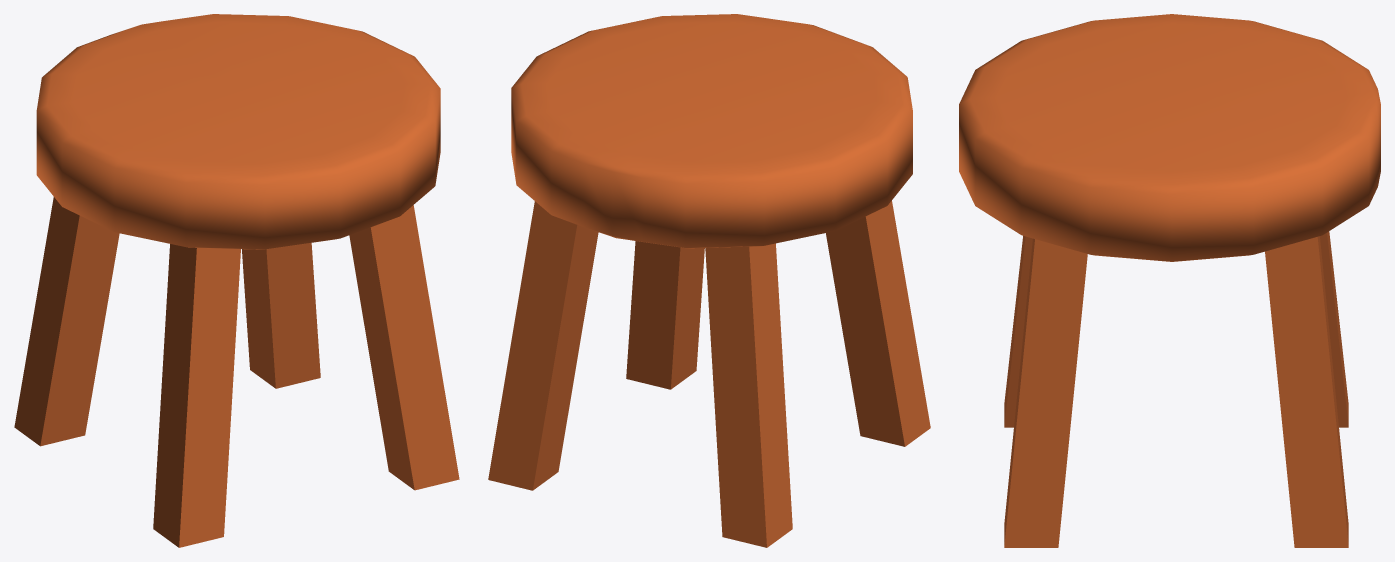
Rendered from hocker.fbx.
The picture shows the model from 3 angles, left to right: view 1: azimuth 30°, elevation 25°; view 2: azimuth 150°, elevation 25°; view 3: azimuth 270°, elevation 25°; orthographic projection. The views are drawn at different scales.
Parts seen in each view (by area): view 1: Cylinder.001; view 2: Cylinder.001; view 3: Cylinder.001.
Part boxes in pixels (x1=…): Cylinder.001: x1=14, y1=14, x2=459, y2=547; Cylinder.001: x1=488, y1=14, x2=930, y2=547; Cylinder.001: x1=959, y1=14, x2=1380, y2=547.
Bounding box in the file's own units: 221 × 217 × 219.
